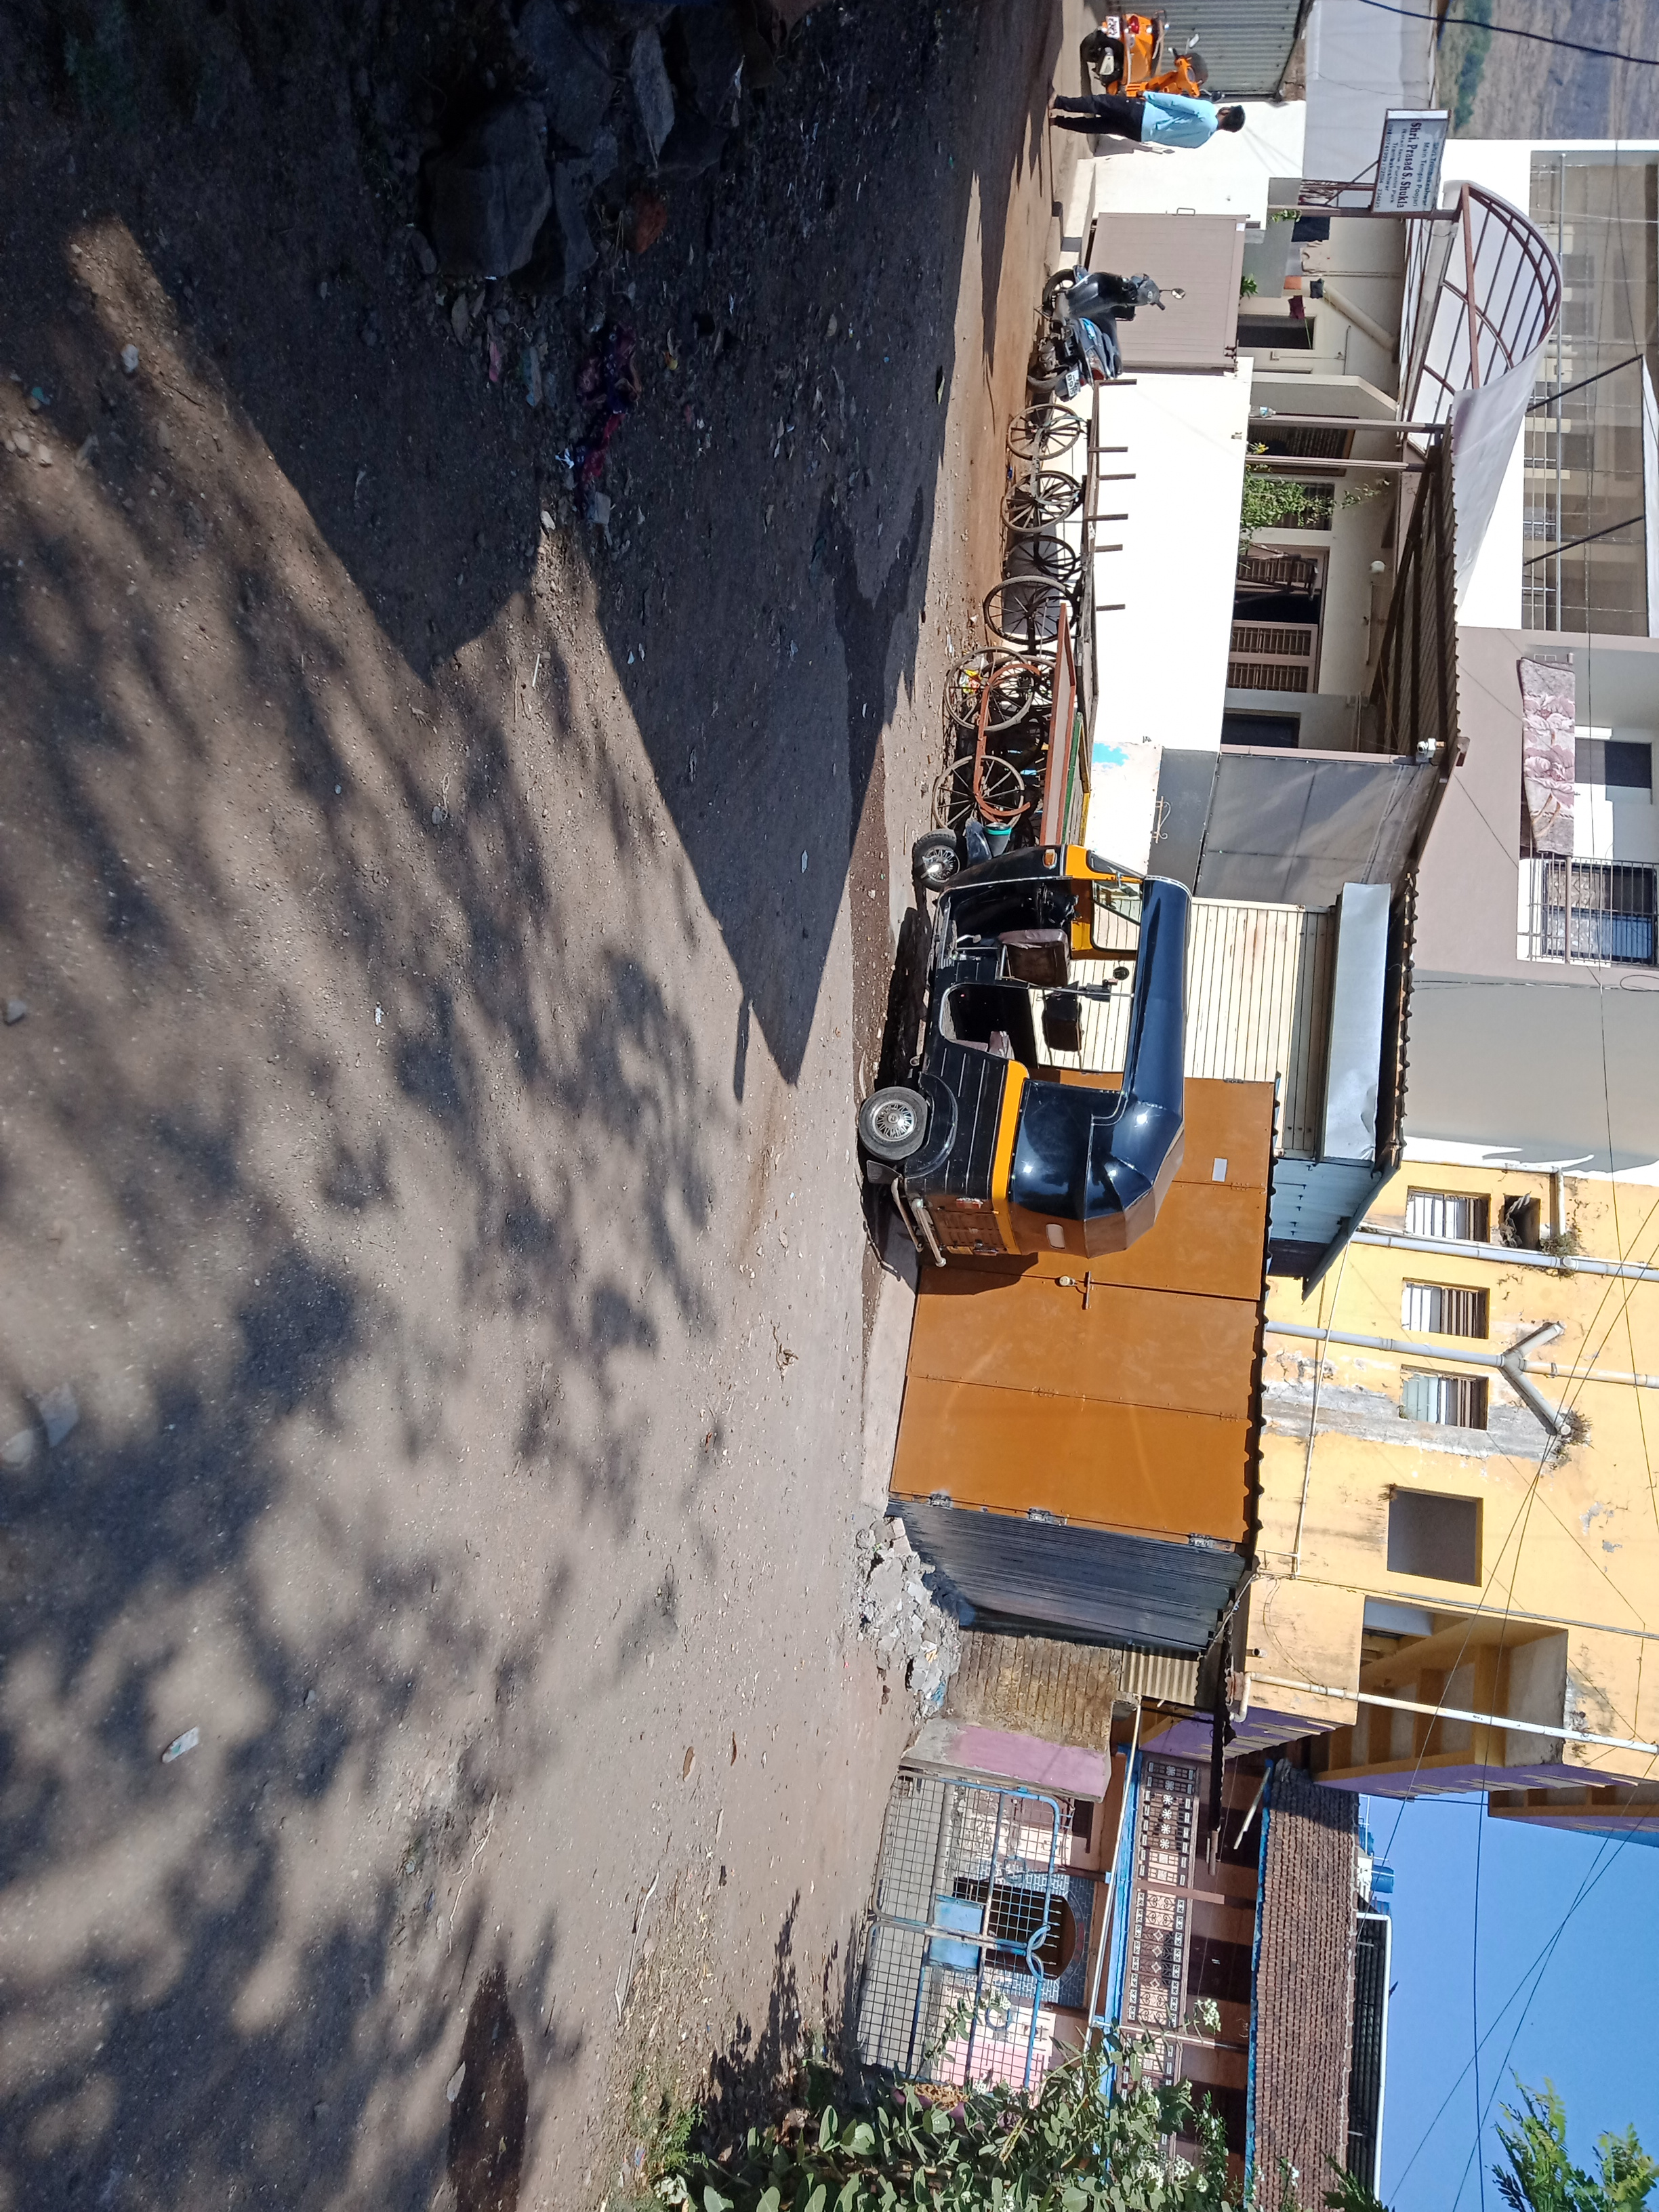auto: (857, 817, 1187, 1268)
two_wheelers: (1026, 263, 1185, 401), (1080, 7, 1225, 110)
